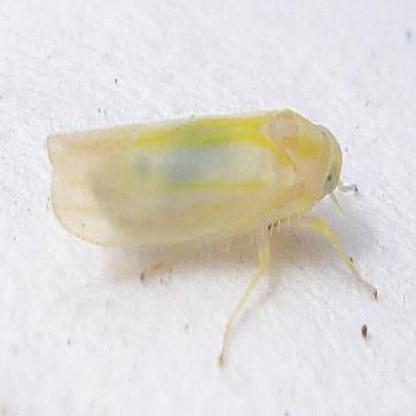green-leafhopper: (49, 107, 344, 240)
